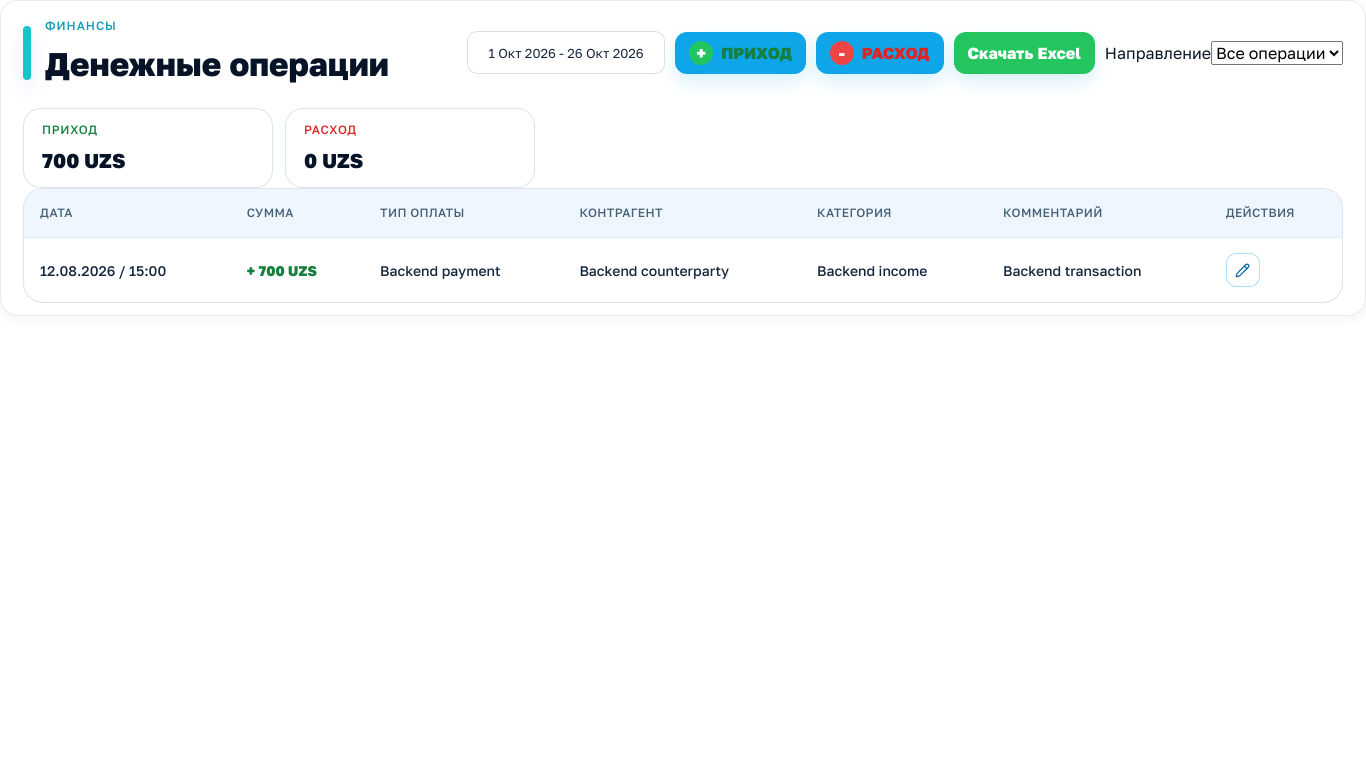
it: CTR-01 critical financial truth › keeps failed finance edits open and never claims success
This screenshot has width=1366, height=768.
Click the button named "Редактировать транзакцию tx-1". click: (1243, 270)
box: x1=1226 y1=253 x2=1260 y2=287
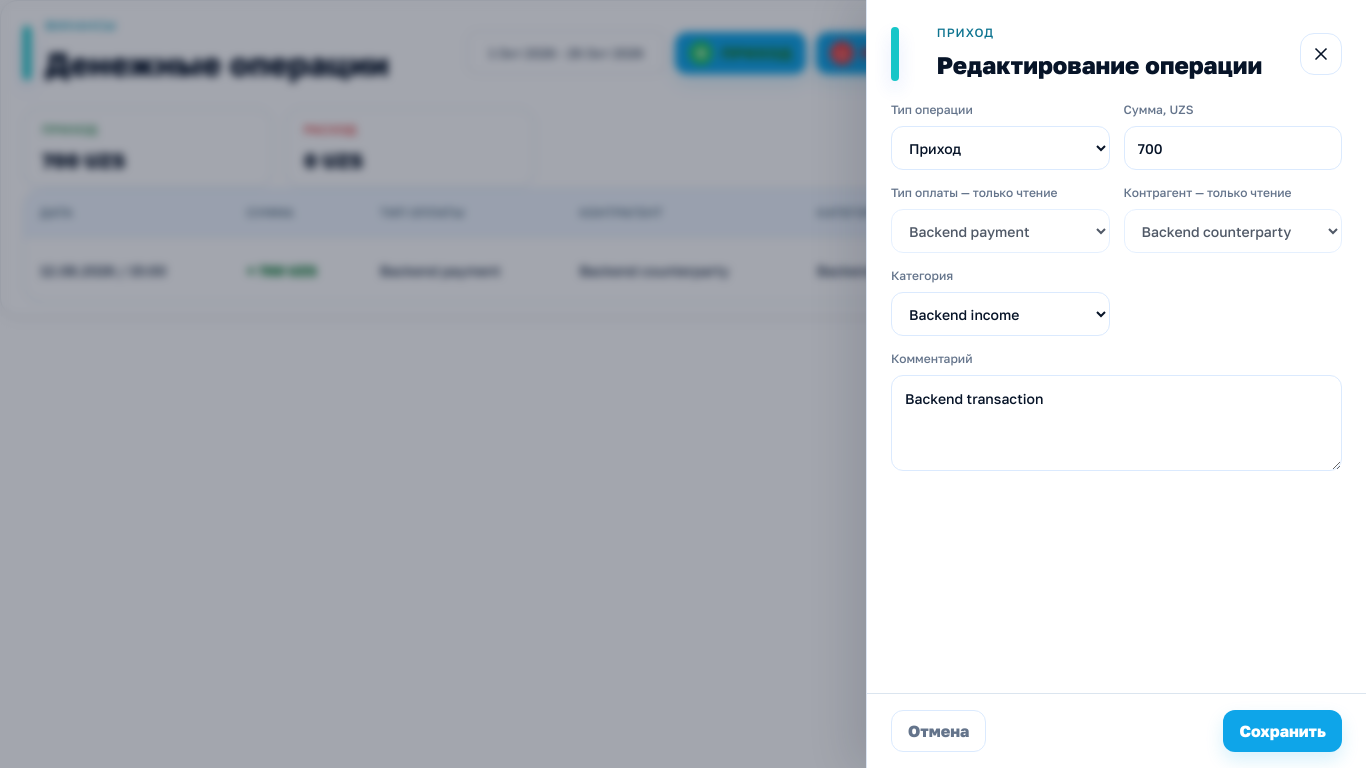
Click the button "Сохранить". click: (1283, 731)
box: x1=1224 y1=710 x2=1342 y2=752
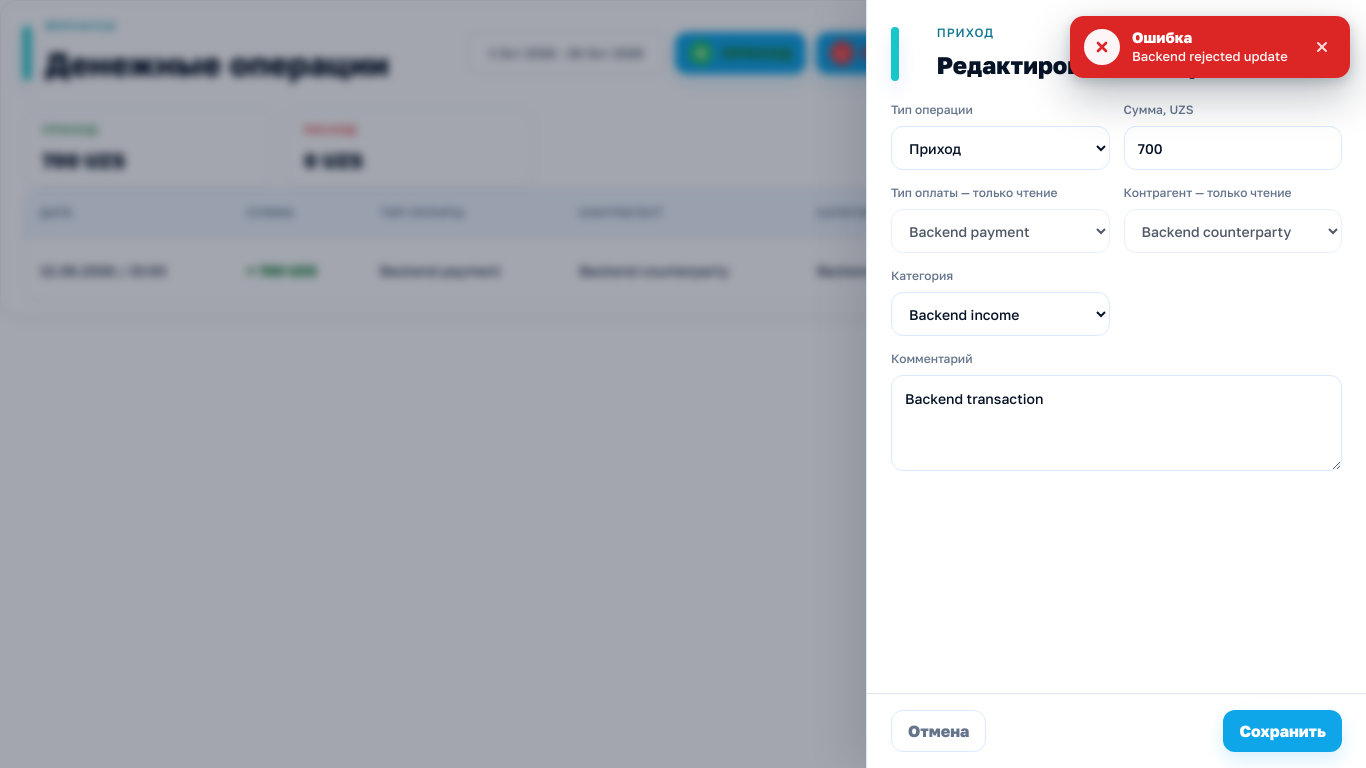
Result: the dialog is shown
Result: the message shows "Backend rejected update" at x1=1132 y1=48 x2=1288 y2=64
